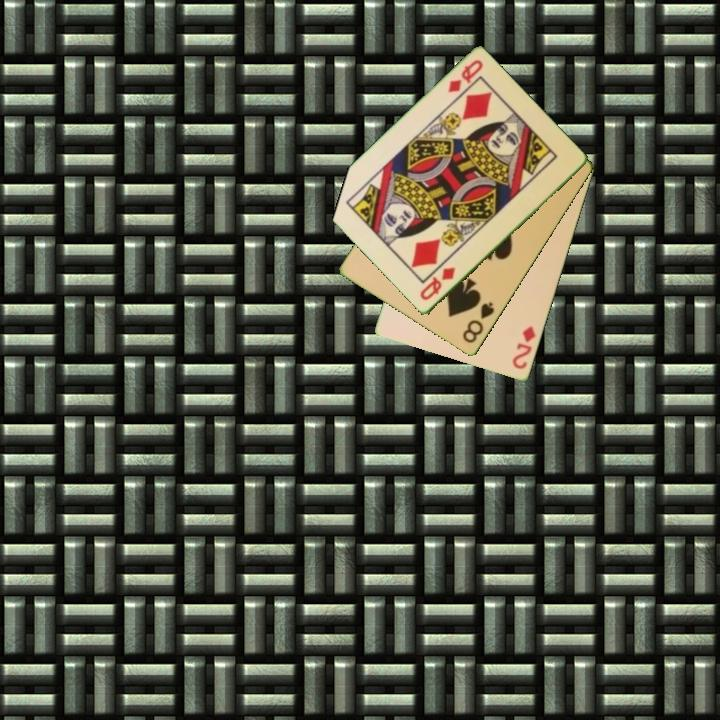2d: (509, 323, 539, 372)
8s: (459, 298, 498, 347)
Qd: (416, 264, 458, 304), (444, 57, 486, 96)
